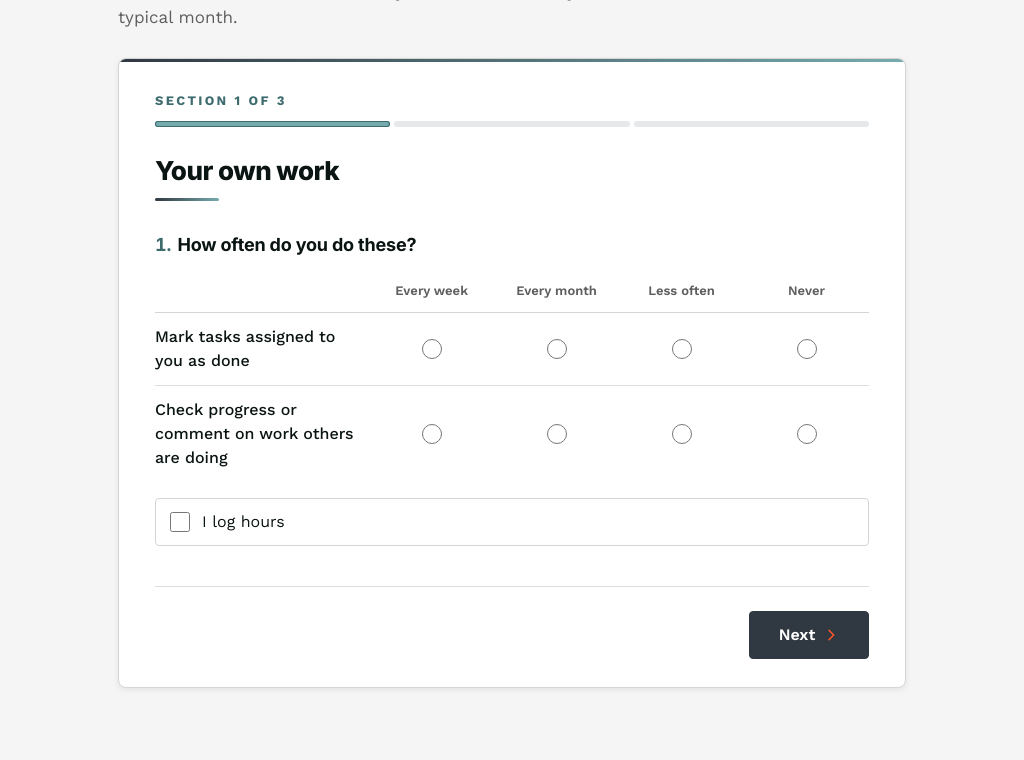
it: how you work survey › requires every activity before moving on
This screenshot has width=1024, height=760.
(page scrolled)
Click the button "Next".
click(809, 635)  # box [749,611,869,659]
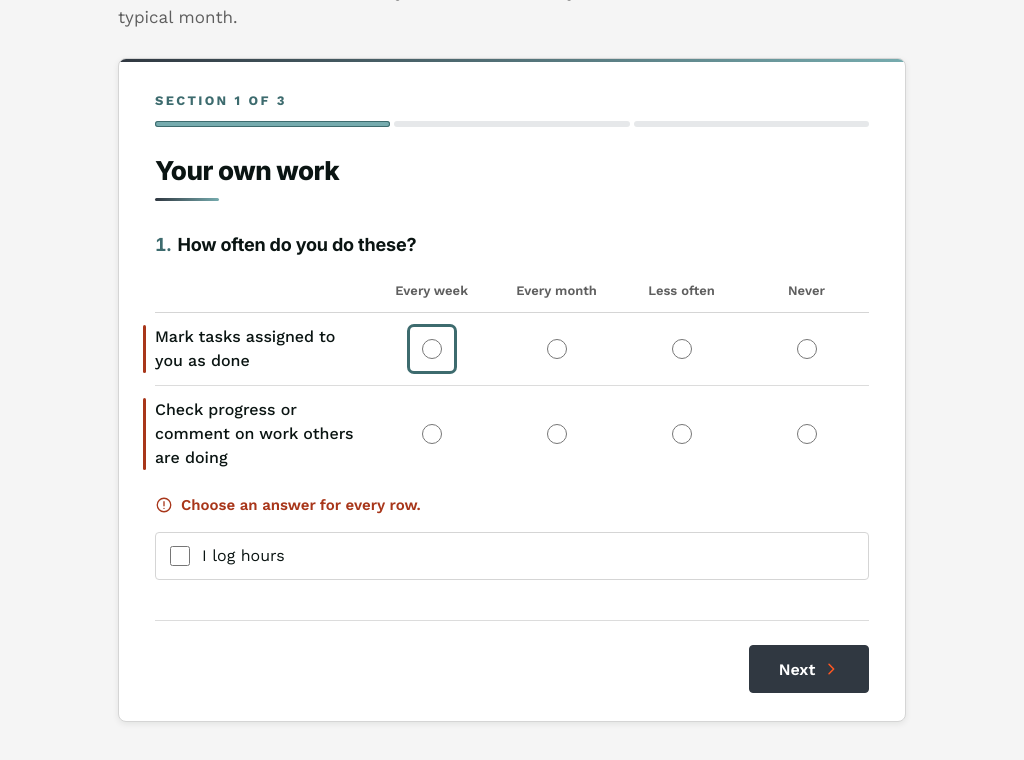
Expected: the heading reads "Your own work", [155,154,339,186]
Expected: the text "Choose an answer for every row." is shown, [155,496,421,514]
